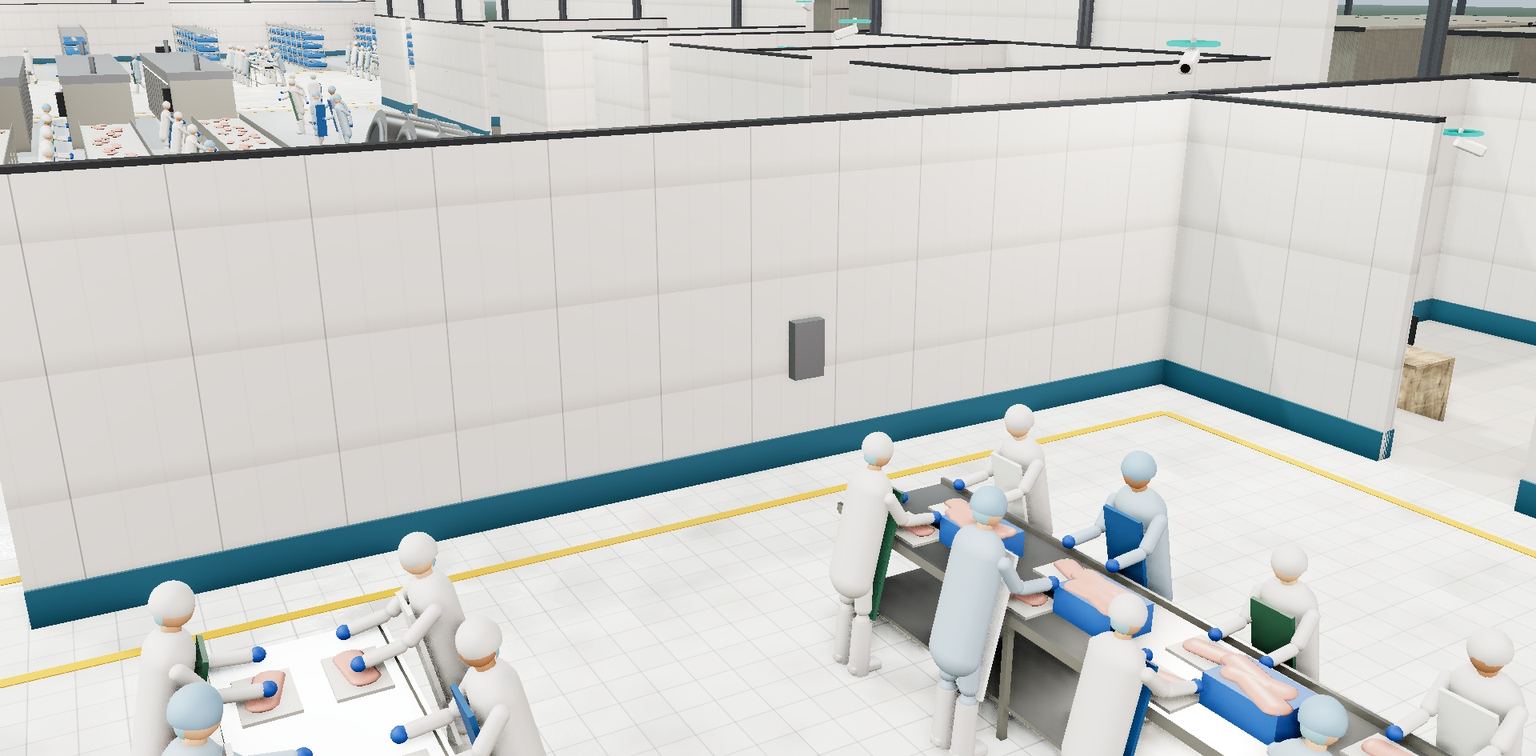apron: (1233, 588, 1317, 745), (947, 535, 1019, 703), (395, 582, 463, 756), (1092, 498, 1166, 651), (154, 634, 234, 756), (1076, 641, 1159, 756), (1411, 677, 1522, 756), (847, 477, 904, 622), (984, 447, 1043, 580), (450, 672, 529, 756), (173, 742, 268, 756), (1247, 747, 1360, 756), (44, 146, 64, 191), (44, 131, 61, 171), (43, 118, 60, 154), (175, 126, 191, 163), (332, 109, 346, 146), (163, 115, 178, 148), (314, 104, 329, 137), (327, 99, 340, 133)
glove: (1380, 719, 1409, 748), (387, 719, 413, 751), (256, 674, 281, 704), (1183, 673, 1209, 700), (347, 650, 371, 679), (332, 619, 356, 646), (246, 641, 269, 668), (1134, 643, 1158, 668), (1254, 651, 1278, 675), (1041, 571, 1064, 595), (1204, 623, 1227, 646), (1101, 555, 1124, 577), (998, 546, 1020, 569), (288, 740, 317, 756), (1058, 531, 1079, 553), (926, 507, 945, 527), (984, 494, 1003, 513), (893, 488, 911, 507), (950, 476, 968, 494), (1311, 747, 1341, 756), (68, 152, 74, 158), (69, 155, 75, 160), (195, 131, 200, 136), (67, 136, 72, 141), (346, 110, 351, 115), (321, 117, 326, 122), (322, 120, 328, 124), (182, 121, 187, 125), (196, 133, 201, 137), (65, 124, 70, 128), (65, 123, 70, 127), (67, 138, 72, 142), (316, 107, 321, 111), (349, 123, 354, 127), (312, 121, 317, 125), (181, 119, 185, 123)
hairnet: (158, 661, 234, 744), (1285, 675, 1366, 749), (442, 599, 511, 669), (1453, 612, 1529, 675), (141, 564, 204, 628), (1098, 579, 1161, 636), (387, 518, 444, 574), (961, 473, 1020, 525), (1260, 531, 1320, 582), (1110, 440, 1167, 487), (854, 421, 904, 465), (995, 395, 1043, 435), (40, 126, 55, 137), (40, 113, 53, 122), (172, 110, 184, 119), (331, 92, 343, 101), (40, 102, 52, 110), (161, 100, 172, 108), (326, 84, 337, 92), (309, 91, 322, 97)
person: (905, 457, 1072, 756), (1046, 427, 1210, 726), (321, 502, 512, 756), (87, 542, 305, 756), (1186, 516, 1363, 756), (812, 409, 949, 690), (374, 576, 584, 756), (1032, 557, 1221, 756), (943, 385, 1080, 646), (93, 629, 361, 756), (1350, 591, 1536, 756), (1192, 646, 1435, 756), (462, 726, 676, 756), (27, 125, 83, 212), (29, 112, 80, 189), (30, 101, 77, 171), (162, 109, 207, 180), (318, 92, 358, 163), (314, 84, 355, 149), (152, 99, 192, 163), (304, 90, 332, 152)
